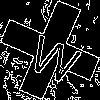W: (25, 25, 87, 86)
